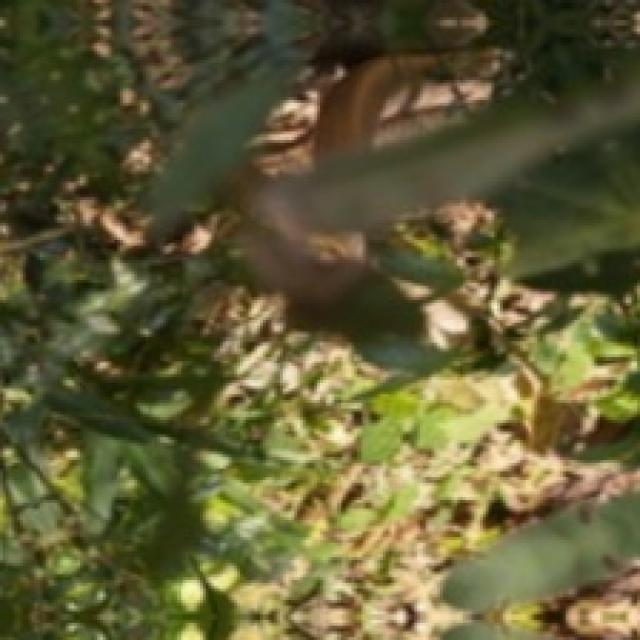king cobra: (314, 48, 502, 163)
